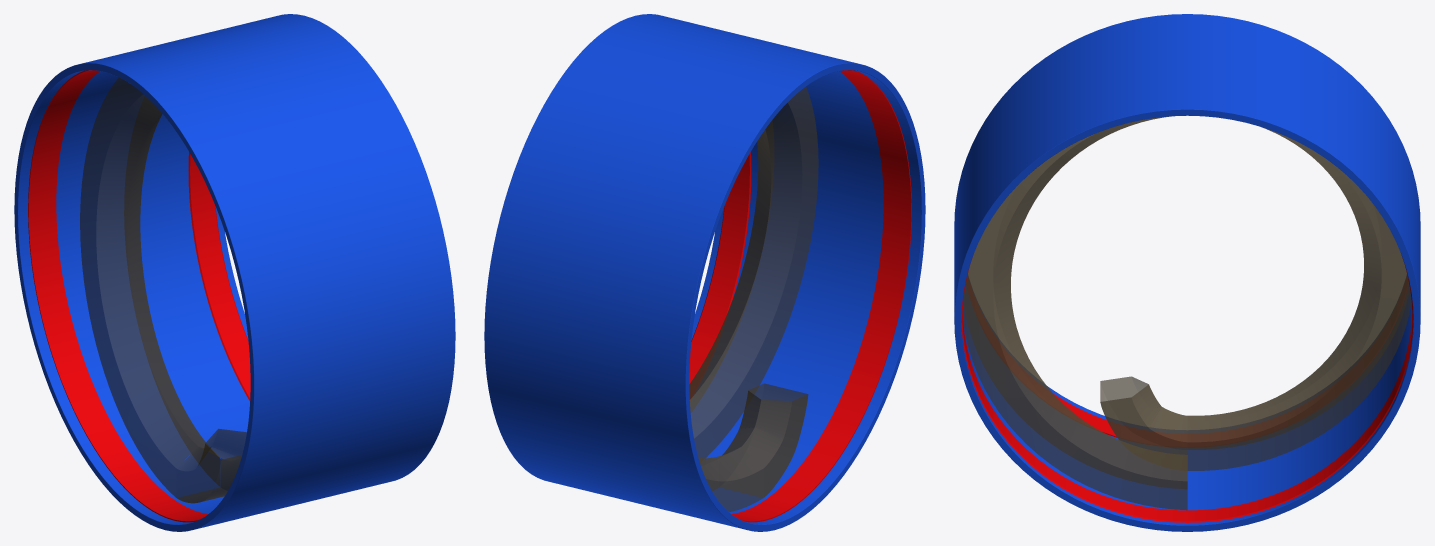
Rendered from new_level_marble.fbx.
The picture shows the model from 3 angles, left to right: view 1: azimuth 30°, elevation 25°; view 2: azimuth 150°, elevation 25°; view 3: azimuth 270°, elevation 25°; orthographic projection. The views are drawn at different scales.
Visible parts, largest first — view 1: ND — Sketch, BallTrack, ControlSurface.001, ControlSurface, BallTrack.002; view 2: ND — Sketch, BallTrack, ControlSurface.001, BallTrack.002, ControlSurface; view 3: ND — Sketch, BallTrack, ControlSurface, BallTrack.002, ControlSurface.001.
Boxes of the visible parts, <box> form: ND — Sketch: <box>14,14,455,531</box>; BallTrack: <box>80,77,220,497</box>; ControlSurface.001: <box>28,70,207,522</box>; ControlSurface: <box>188,152,250,400</box>; BallTrack.002: <box>176,429,246,503</box>; ND — Sketch: <box>484,14,925,531</box>; BallTrack: <box>689,87,818,511</box>; ControlSurface.001: <box>732,70,911,522</box>; BallTrack.002: <box>720,383,808,497</box>; ControlSurface: <box>689,152,751,384</box>; ND — Sketch: <box>954,14,1420,531</box>; BallTrack: <box>962,116,1411,510</box>; ControlSurface: <box>961,266,1413,522</box>; BallTrack.002: <box>1100,376,1187,454</box>; ControlSurface.001: <box>1054,394,1117,437</box>.
Bounding box in the file's own units: 3300 × 1600 × 3300.
